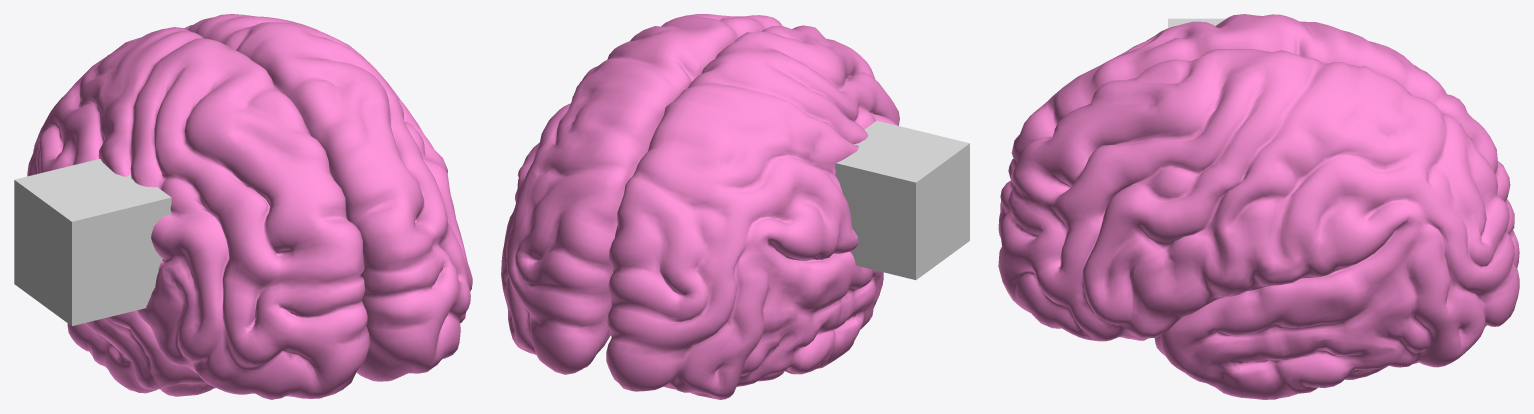
File: brain15.glb
The picture shows the model from 3 angles, left to right: view 1: azimuth 30°, elevation 25°; view 2: azimuth 150°, elevation 25°; view 3: azimuth 270°, elevation 25°; orthographic projection. The views are drawn at different scales.
Visible parts, largest first — view 1: V1_1:jianmian_03:Group1, Cube; view 2: V1_1:jianmian_03:Group1, Cube; view 3: V1_1:jianmian_03:Group1.
Part boxes in pixels (x1,y1,x2,y2): V1_1:jianmian_03:Group1: (27, 14, 472, 399); Cube: (14, 159, 171, 325); V1_1:jianmian_03:Group1: (501, 14, 899, 399); Cube: (833, 120, 969, 279); V1_1:jianmian_03:Group1: (998, 14, 1519, 399).
Bounding box in the file's own units: 1.92 × 1.49 × 2.29.
